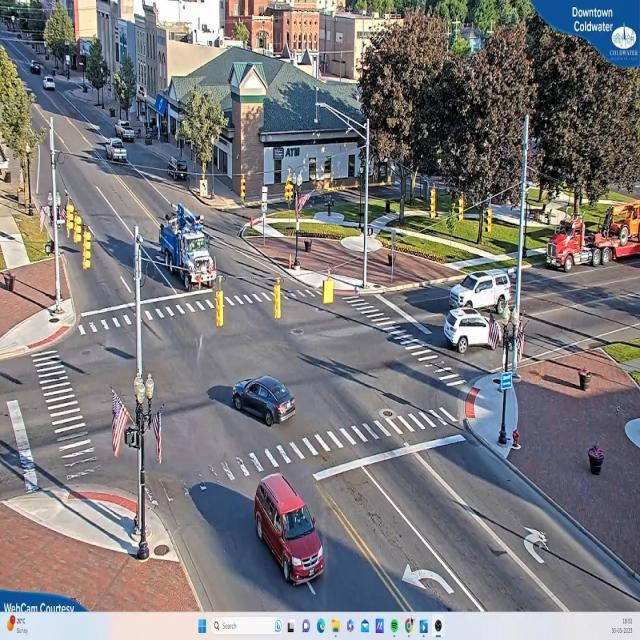car: (252, 479, 325, 589), (232, 377, 296, 425), (386, 324, 418, 346), (103, 141, 129, 166), (44, 76, 56, 92)
truck: (441, 270, 517, 355), (154, 209, 220, 297)
